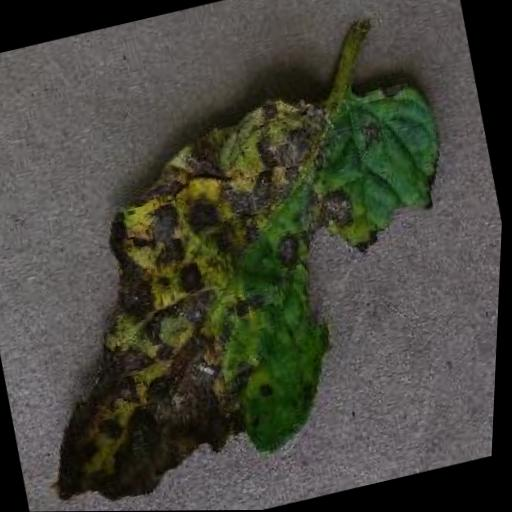Early Blight: (0, 58, 507, 512)
